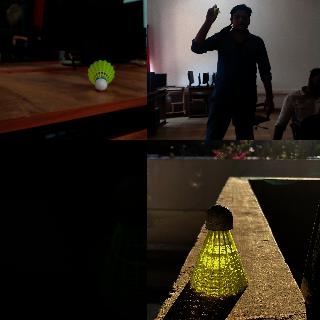shuttlecock: (98, 176, 146, 319), (189, 204, 247, 296), (87, 60, 115, 90), (212, 4, 220, 14)
